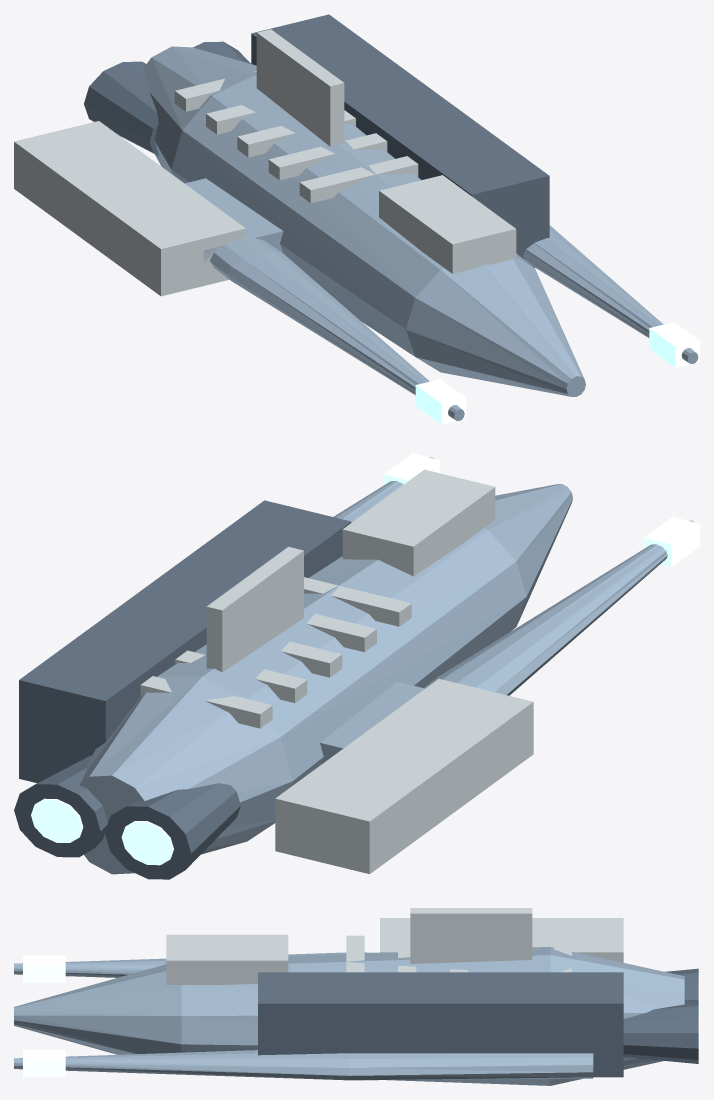
The picture shows the model from 3 angles, top to bottom: view 1: azimuth 30°, elevation 25°; view 2: azimuth 150°, elevation 25°; view 3: azimuth 270°, elevation 25°; orthographic projection. The views are drawn at different scales.
Bounding box in the file's own units: 2.1 × 1.18 × 4.41.
